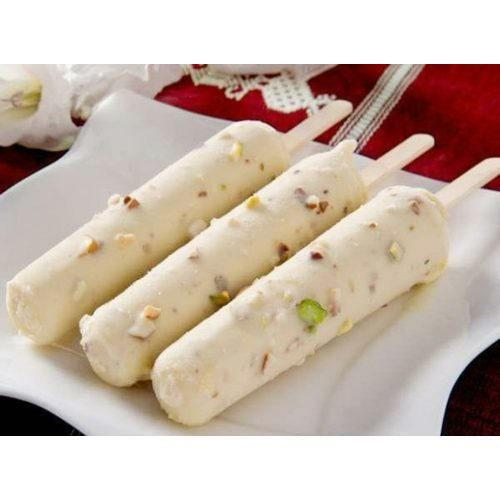Kulfi: (72, 139, 371, 393), (148, 182, 448, 423), (11, 115, 296, 346)
